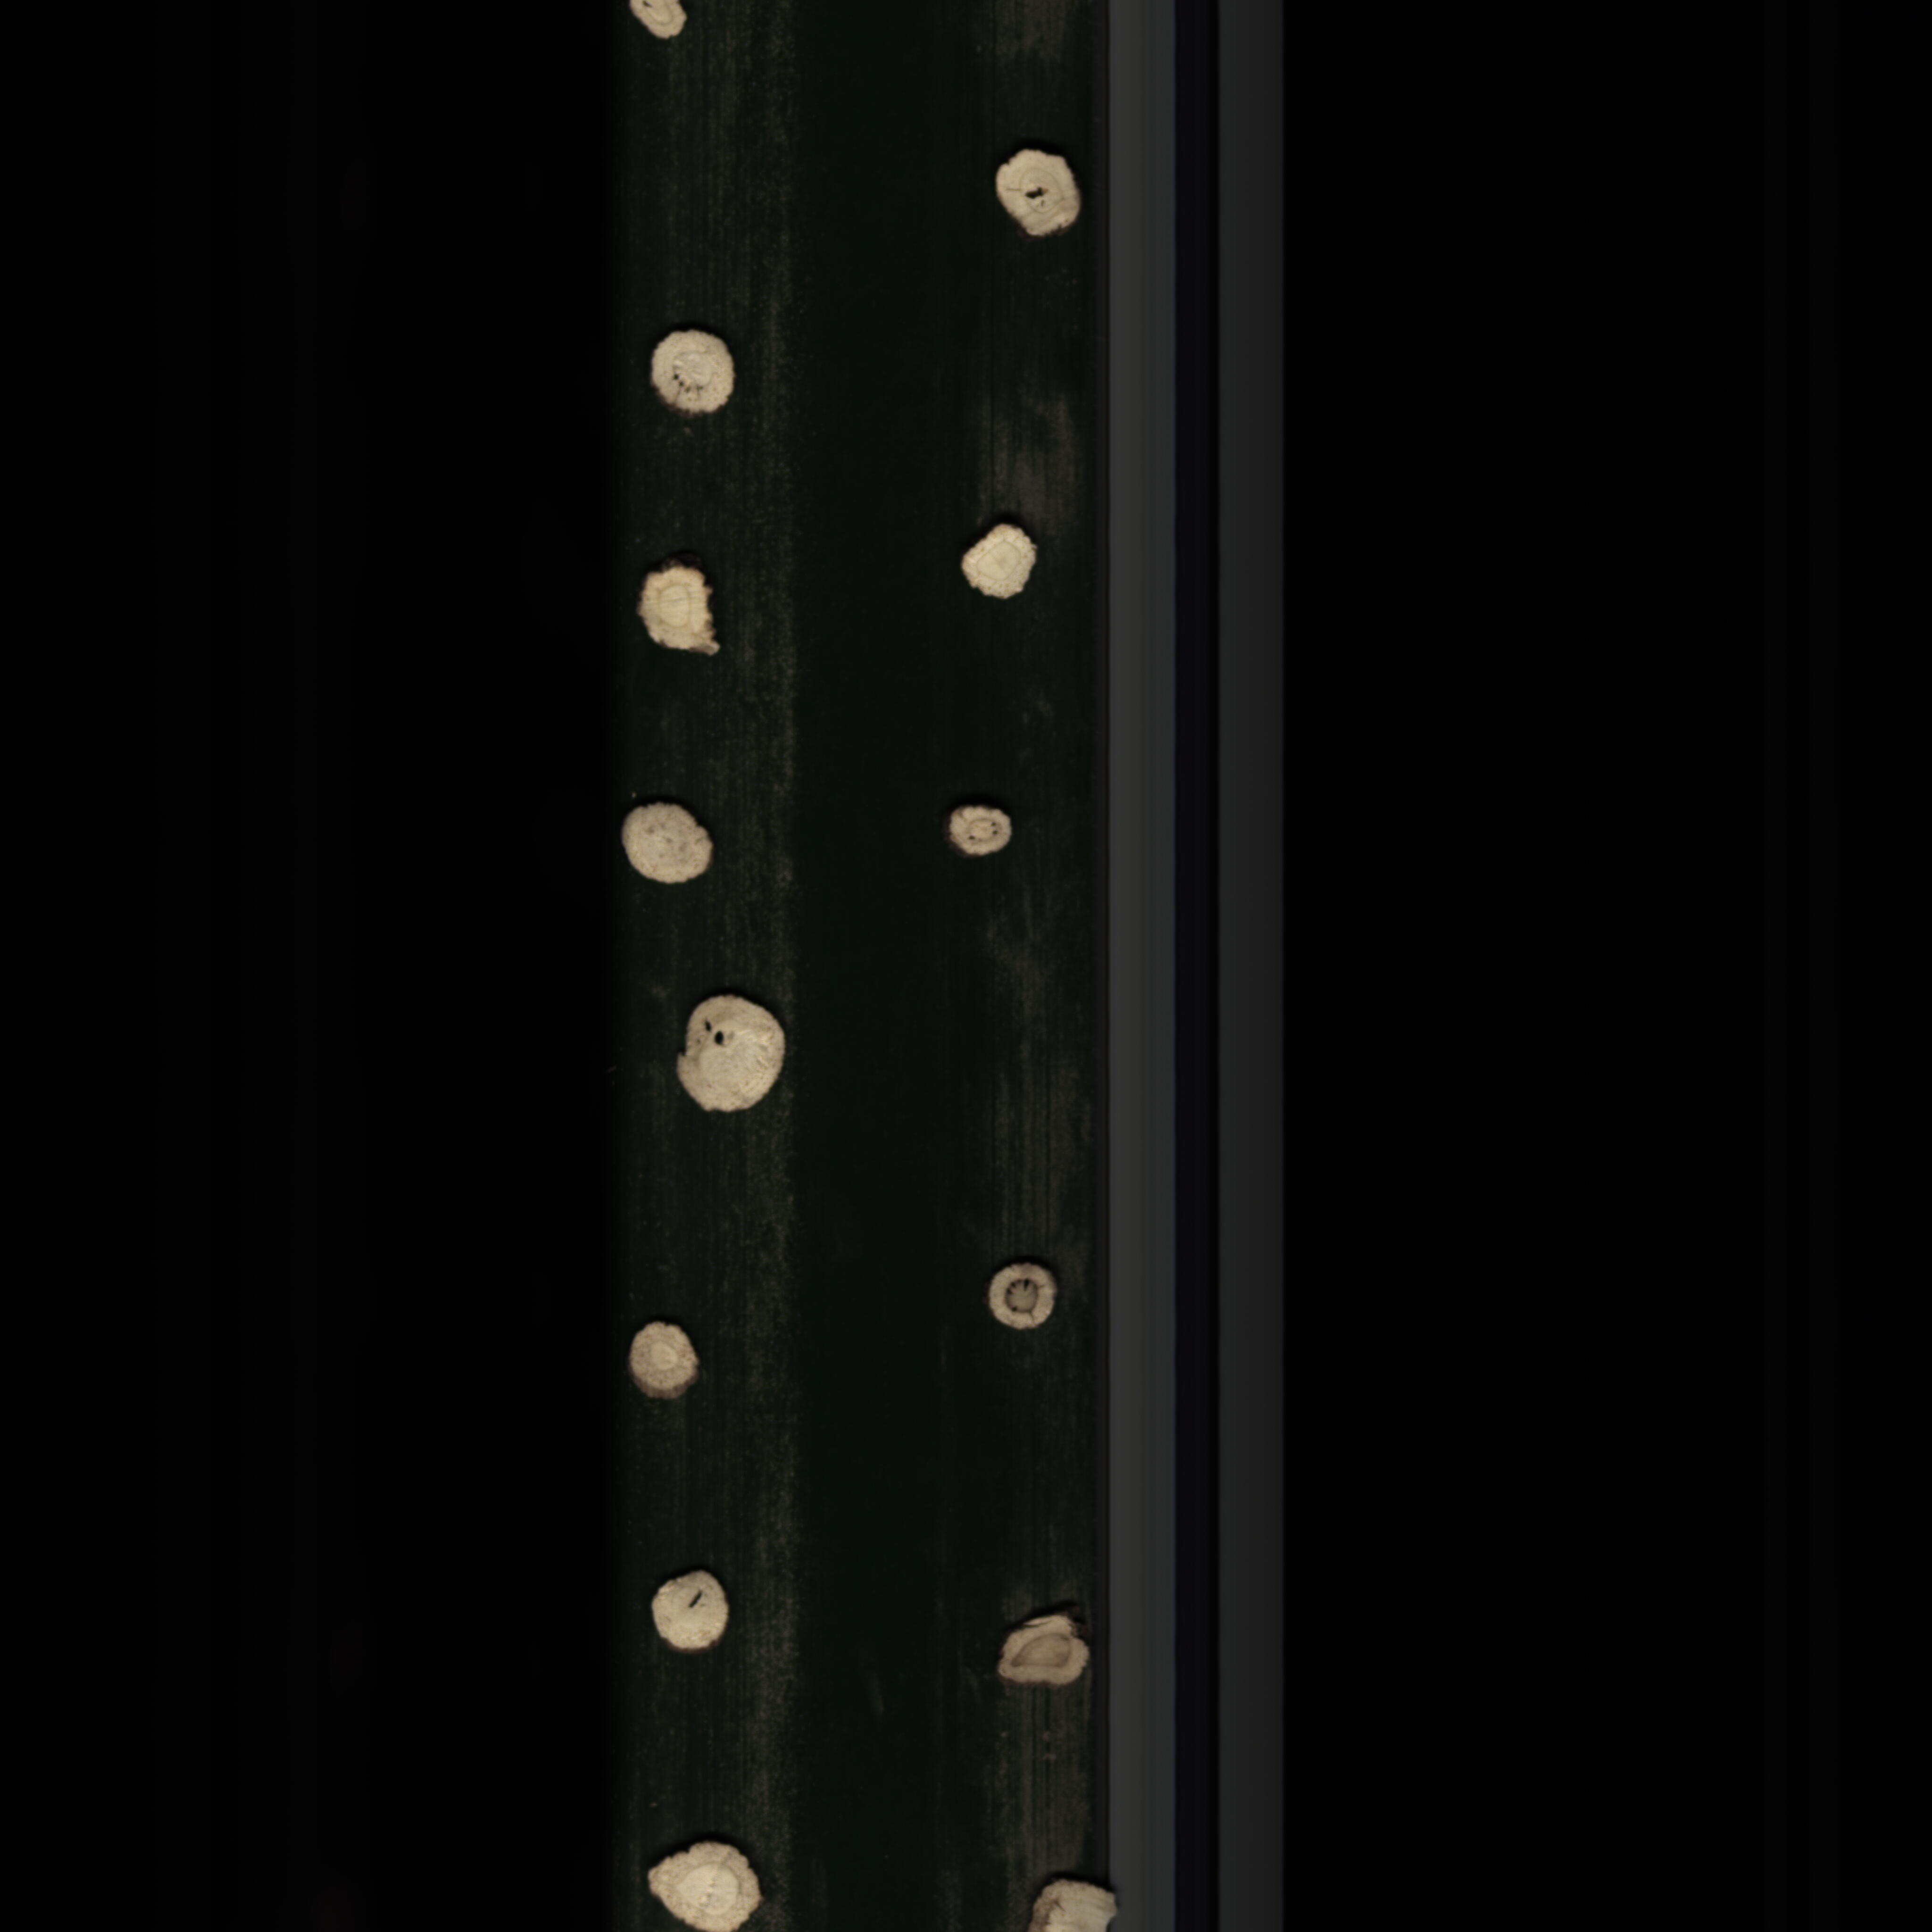hole: (672, 985, 791, 1127), (985, 138, 1090, 253), (644, 1568, 738, 1658)
moldy: (991, 1608, 1095, 1691), (984, 1256, 1065, 1343)
